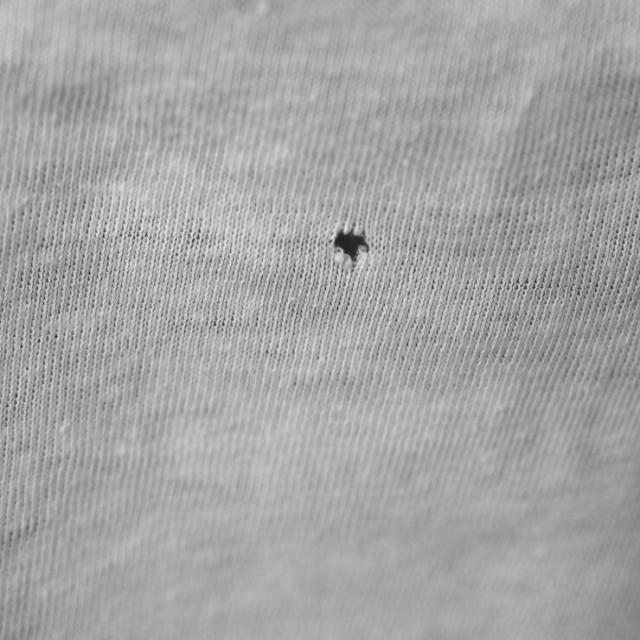Hole: (335, 231, 370, 263)
